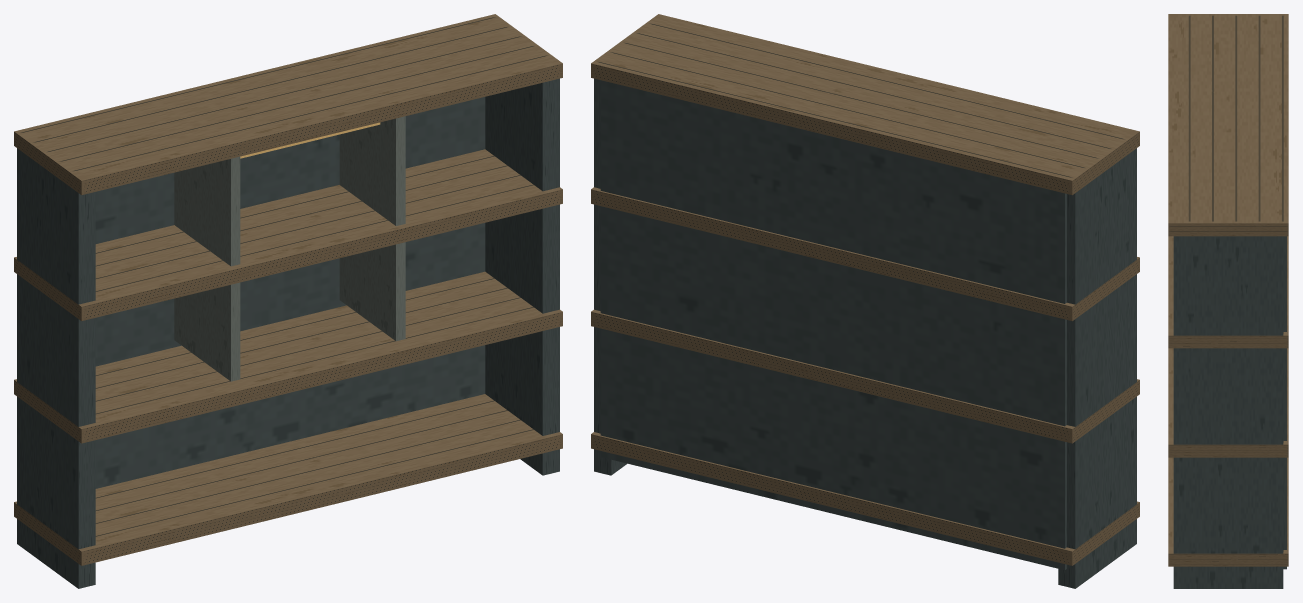
The model's file is CabinShelf.fbx.
3 renders of one model, left to right at view 1: azimuth 30°, elevation 25°; view 2: azimuth 150°, elevation 25°; view 3: azimuth 270°, elevation 25°, orthographic. The views are drawn at different scales.
Parts seen in each view (by area): view 1: CabinShelf; view 2: CabinShelf; view 3: CabinShelf.
Boxes of the visible parts, <box> form: CabinShelf: <box>14,14,562,588</box>; CabinShelf: <box>591,14,1139,588</box>; CabinShelf: <box>1168,14,1288,588</box>.
Size of the model in its own units: 280 by 228 by 68.
